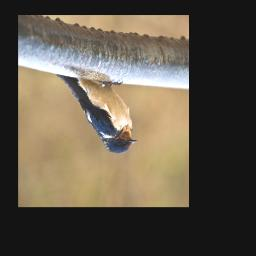Swallow: (56, 73, 138, 155)
